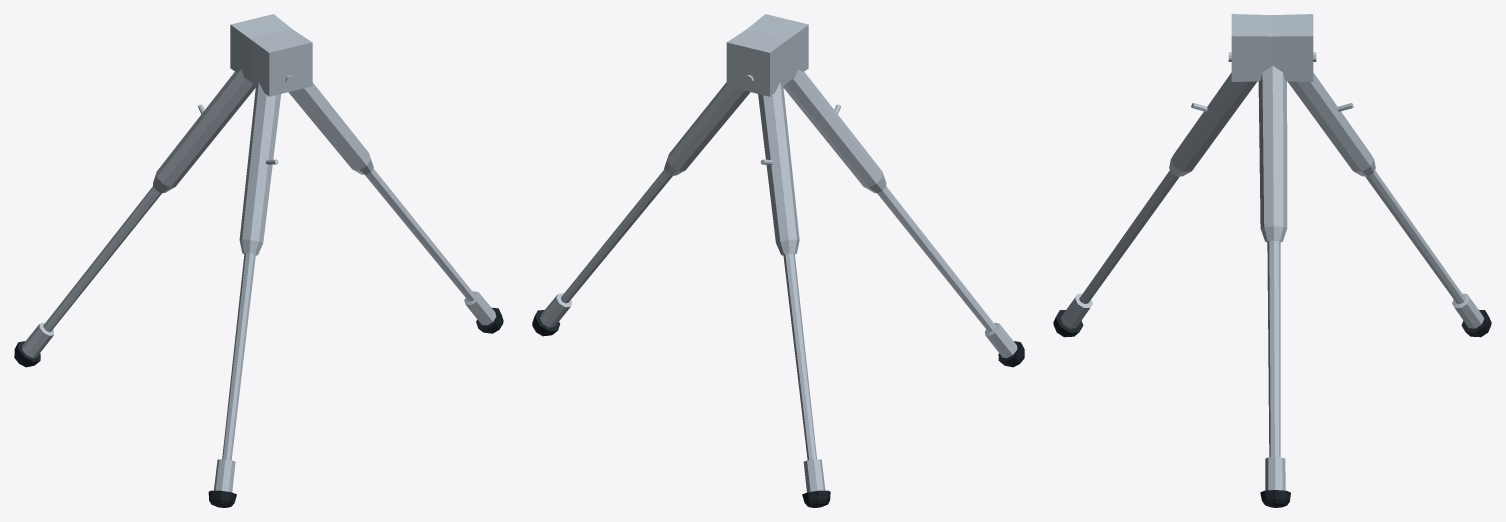
File: tripod.glb
3 views of the same model, side by side, from view 1: azimuth 30°, elevation 25°; view 2: azimuth 150°, elevation 25°; view 3: azimuth 270°, elevation 25° (orthographic). The views are drawn at different scales.
Visible parts, largest first — view 1: tripod; view 2: tripod; view 3: tripod.
Boxes of the visible parts, <box> form: tripod: <box>14,14,503,507</box>; tripod: <box>532,14,1024,507</box>; tripod: <box>1053,14,1491,507</box>.
Bounding box in the file's own units: 0.24 × 0.2163 × 0.2227.
